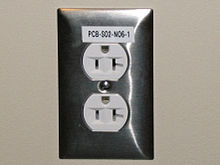outlet: (82, 42, 130, 83), (83, 92, 130, 131)
